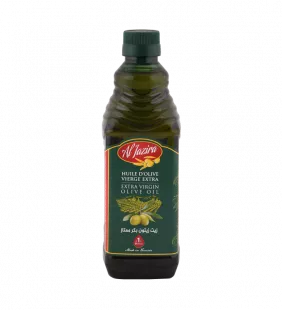AL JAZIRA: (96, 24, 184, 280)
